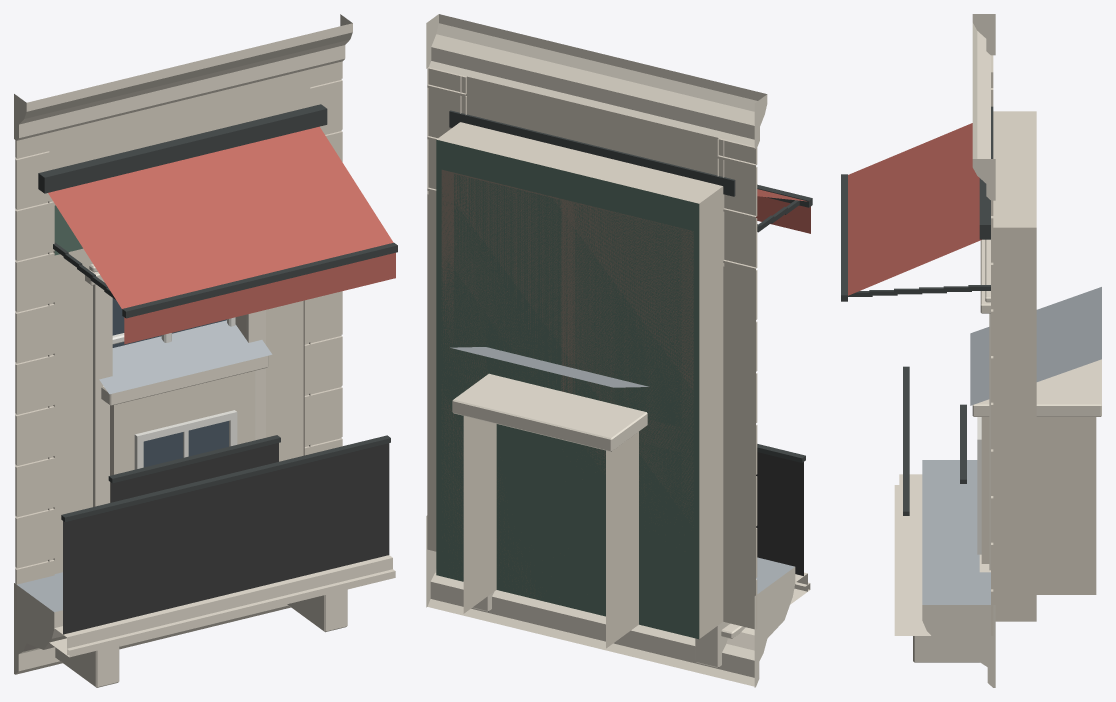
Rendered from facade-haute.glb.
3 views of the same model, side by side, from view 1: azimuth 30°, elevation 25°; view 2: azimuth 150°, elevation 25°; view 3: azimuth 270°, elevation 25° (orthographic). The views are drawn at different scales.
Visible parts, largest first — view 1: store, etage_balcon, rdc_boutique, etage_simple, rdc_porte, lucarne, corniche, etage_balconnet; view 2: rdc_porte, rdc_boutique, lucarne, etage_simple, corniche, etage_balcon, store; view 3: rdc_porte, lucarne, store, corniche, etage_balcon, rdc_boutique, etage_simple, etage_balconnet.
Part boxes in pixels (x1,y1,x2,y2): store: [38, 104, 397, 344]; etage_balcon: [49, 435, 395, 687]; rdc_boutique: [14, 14, 352, 618]; etage_simple: [54, 248, 341, 573]; rdc_porte: [15, 61, 342, 580]; lucarne: [99, 320, 272, 502]; corniche: [14, 572, 290, 674]; etage_balconnet: [108, 435, 280, 502]; rdc_porte: [427, 67, 756, 639]; rdc_boutique: [426, 14, 767, 629]; lucarne: [450, 347, 648, 648]; etage_simple: [427, 194, 755, 629]; corniche: [426, 515, 795, 687]; etage_balcon: [472, 444, 810, 667]; store: [449, 110, 812, 233]; rdc_porte: [991, 55, 1036, 621]; lucarne: [970, 287, 1101, 594]; store: [841, 106, 993, 301]; corniche: [922, 460, 995, 687]; etage_balcon: [894, 366, 979, 662]; rdc_boutique: [972, 14, 995, 635]; etage_simple: [979, 239, 990, 572]; etage_balconnet: [960, 404, 966, 483].
Size of the model in its own units: 3 by 5.1 by 2.28.
